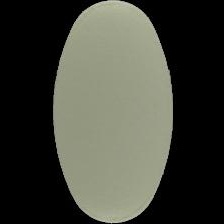63187-398: (0, 0, 224, 224)
